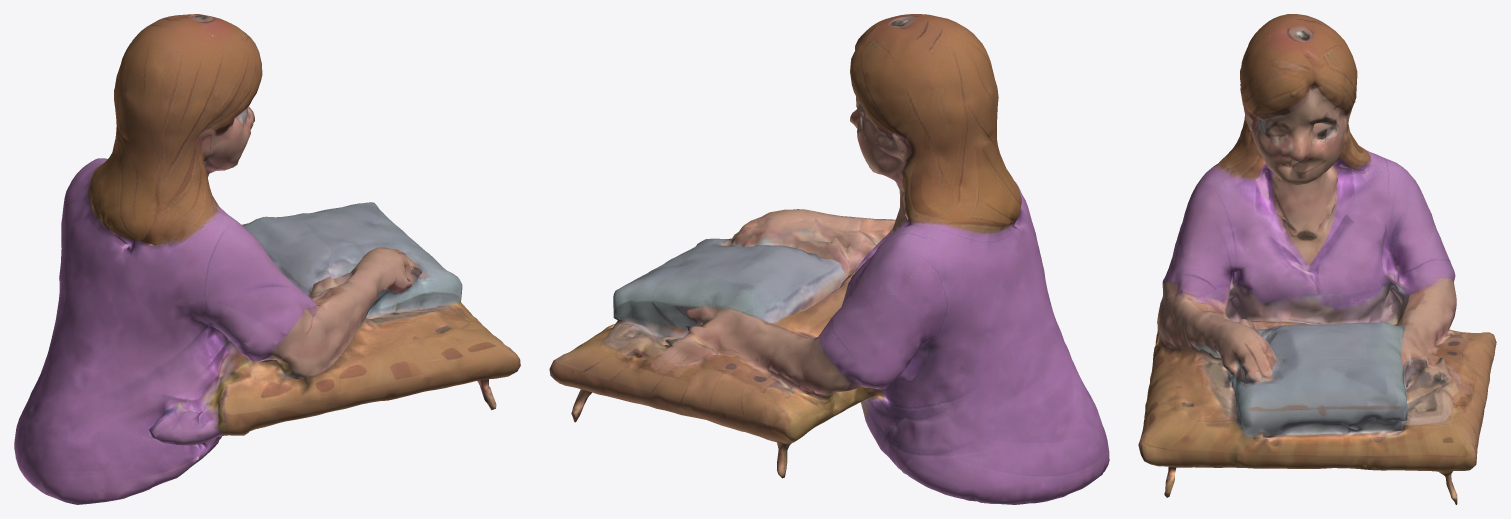
File: model-three.glb
The picture shows the model from 3 angles, left to right: view 1: azimuth 30°, elevation 25°; view 2: azimuth 150°, elevation 25°; view 3: azimuth 270°, elevation 25°; orthographic projection. The views are drawn at different scales.
Bounding box in the file's own units: 1.2 × 1.13 × 0.9217.
1 material, 1 textured.
